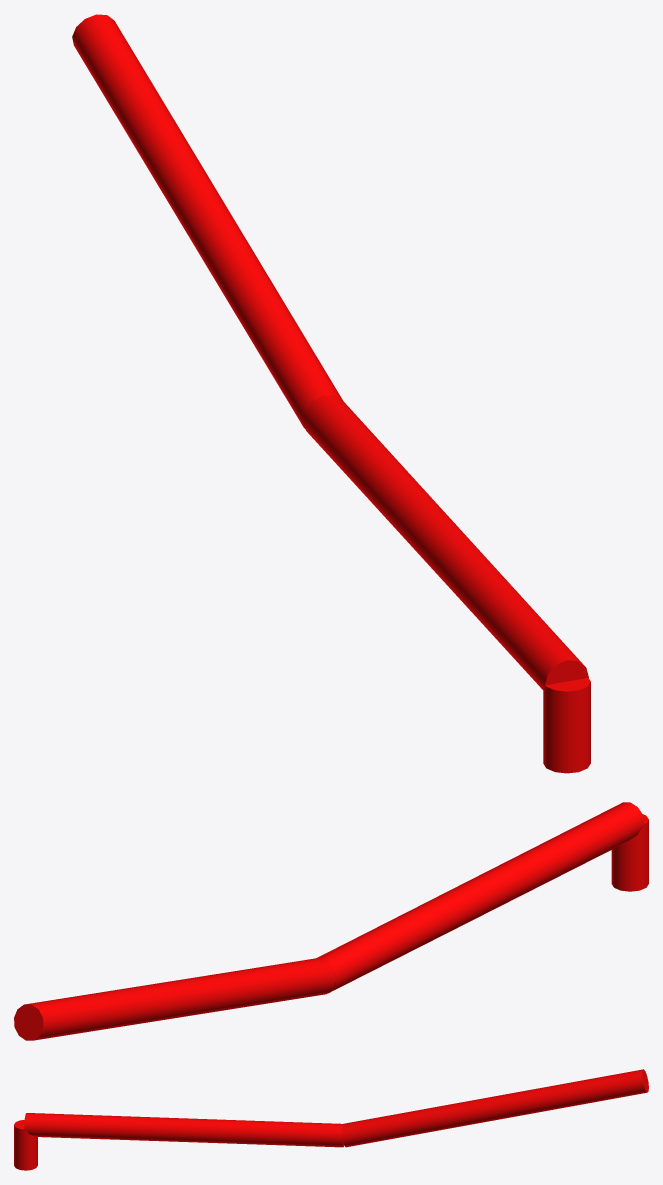
The picture shows the model from 3 angles, top to bottom: view 1: azimuth 30°, elevation 25°; view 2: azimuth 150°, elevation 25°; view 3: azimuth 270°, elevation 25°; orthographic projection. The views are drawn at different scales.
Parts seen in each view (by area): view 1: 3799, 3793, 3797; view 2: 3793, 3799, 3797, 3799_7307; view 3: 3793, 3799, 3797.
Boxes of the visible parts, <box> form: 3799: <box>72,14,342,427</box>; 3793: <box>302,395,585,689</box>; 3797: <box>543,682,590,773</box>; 3793: <box>316,802,644,993</box>; 3799: <box>24,958,336,1040</box>; 3797: <box>611,820,648,891</box>; 3799_7307: <box>14,1004,43,1040</box>; 3793: <box>24,1113,342,1147</box>; 3799: <box>341,1069,646,1147</box>; 3797: <box>14,1125,37,1170</box>.
Bounding box in the file's own units: 0.2302 × 0.3065 × 1.35.
